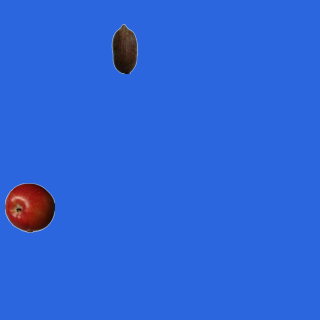Apple Braeburn: (4, 182, 54, 232)
Nut Pecan: (99, 23, 149, 73)
